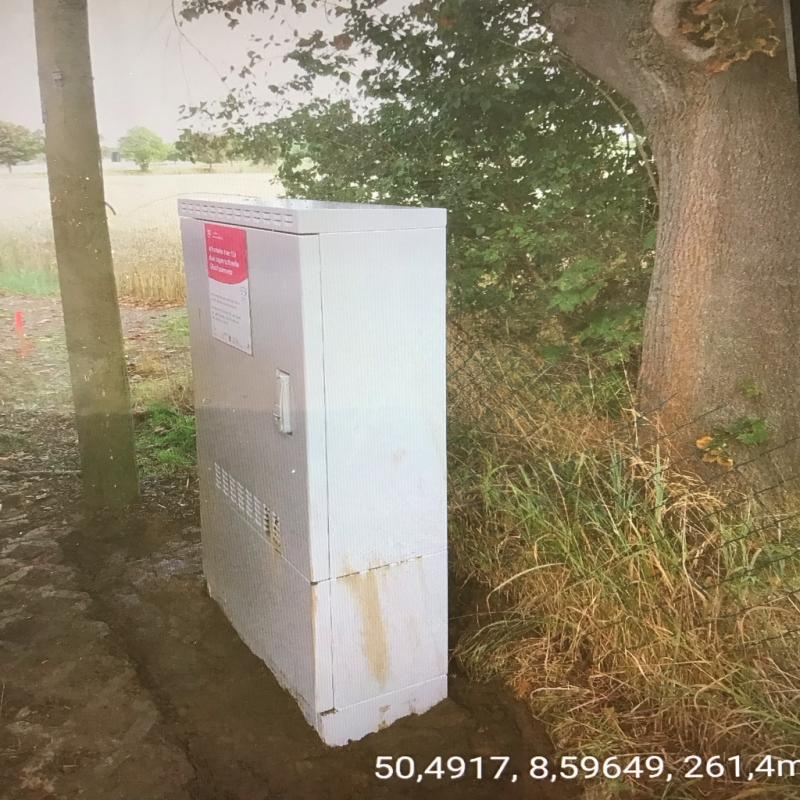NT-Gehause: (178, 196, 448, 748)
Steaker: (204, 220, 254, 356)
